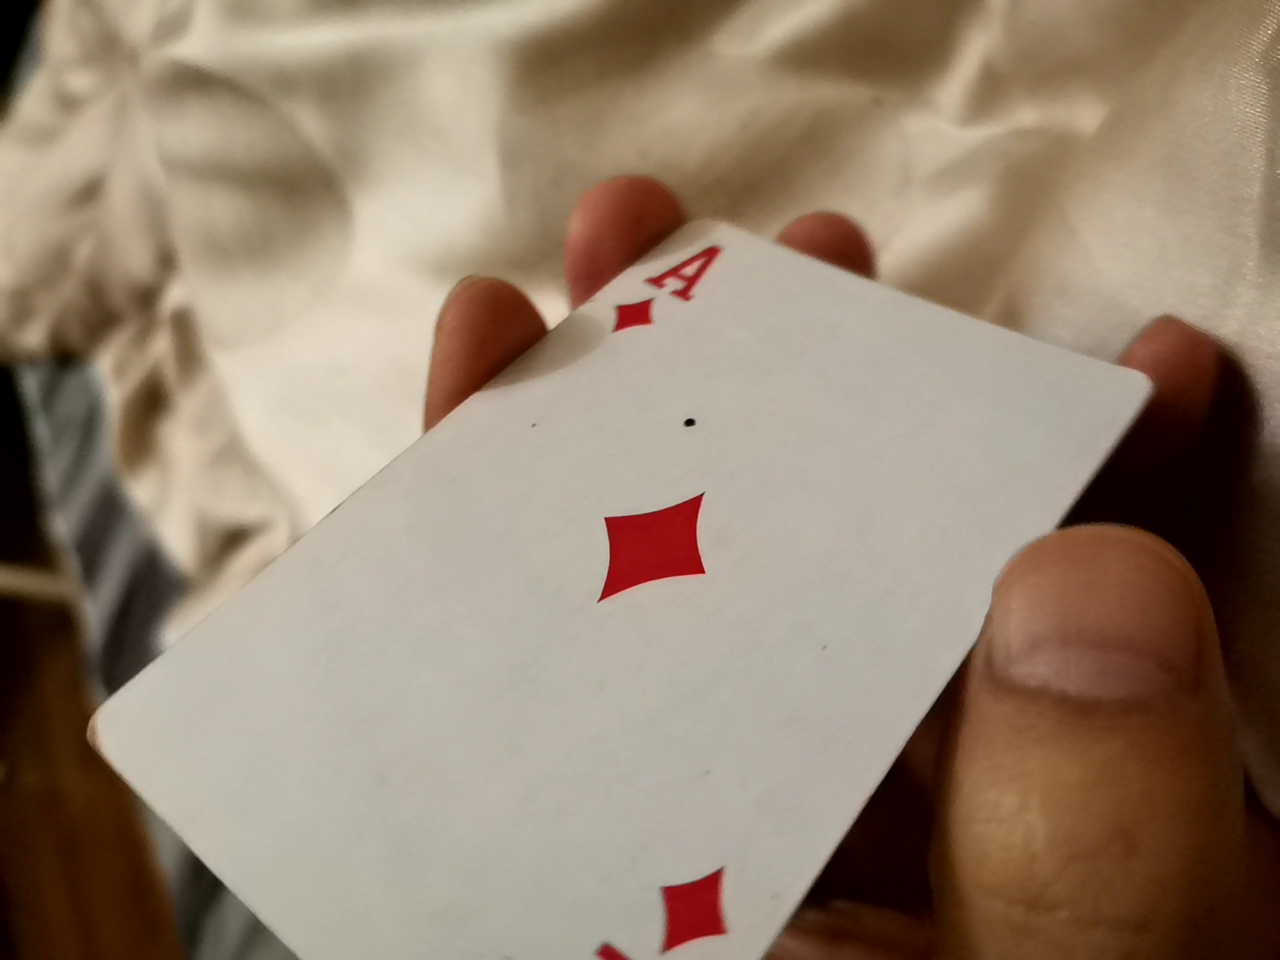fk a: (119, 202, 1233, 959)
